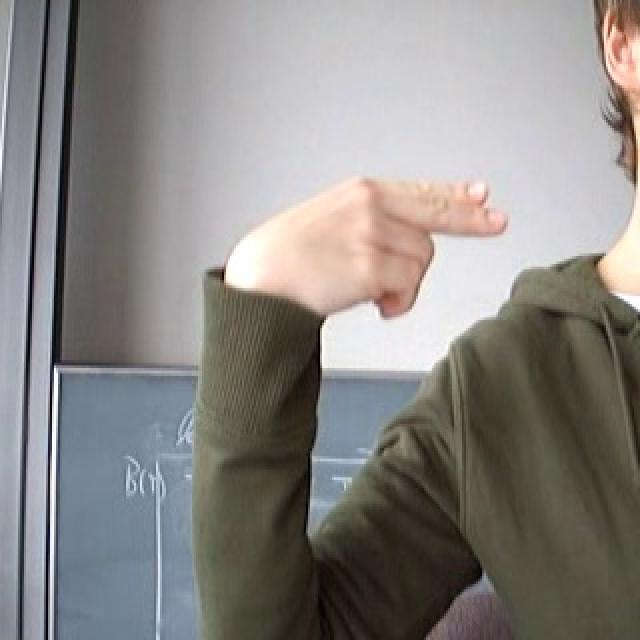H: (206, 147, 524, 343)
